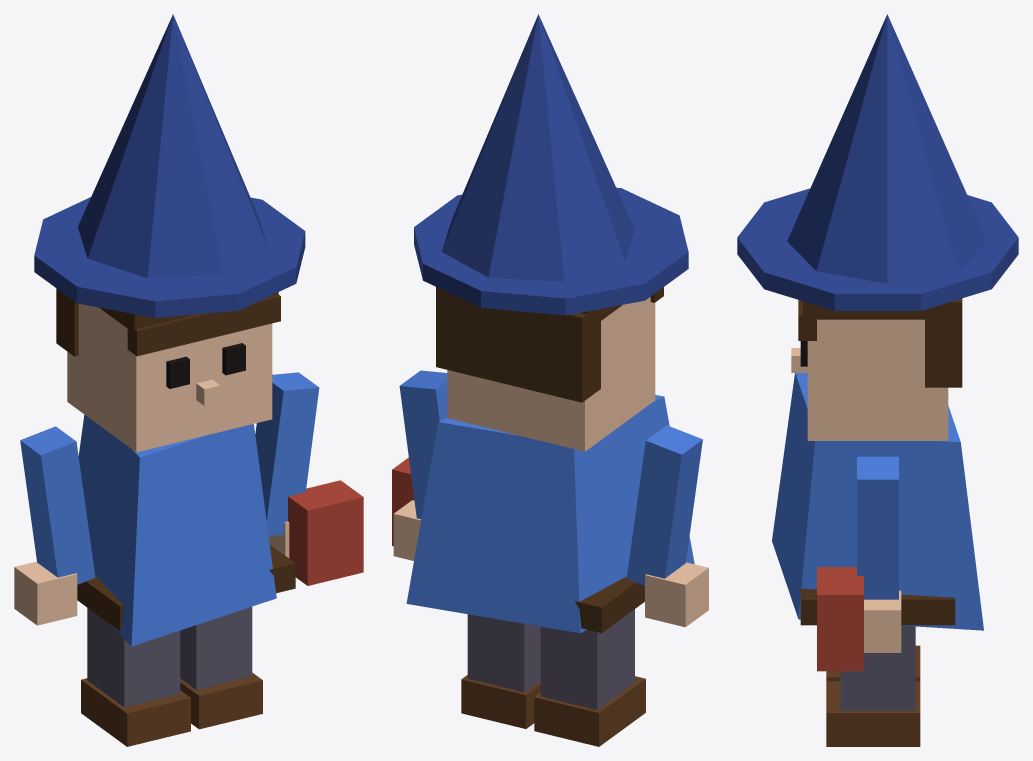
Rendered from VillagerSmart.fbx.
3 views of the same model, side by side, from view 1: azimuth 30°, elevation 25°; view 2: azimuth 150°, elevation 25°; view 3: azimuth 270°, elevation 25° (orthographic).
Parts seen in each view (by area): view 1: VillagerSmart; view 2: VillagerSmart; view 3: VillagerSmart.
Boxes of the visible parts, x1,y1,x2,y2 form: VillagerSmart: (14,14,363,746); VillagerSmart: (392,14,708,746); VillagerSmart: (737,14,1018,746).
Bounding box in the file's own units: 0.77 × 1.65 × 0.6.
